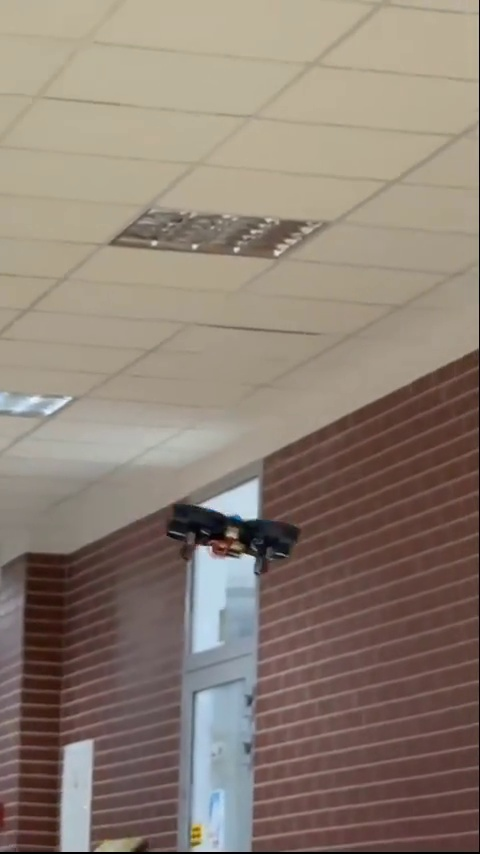drone: (168, 500, 295, 575)
